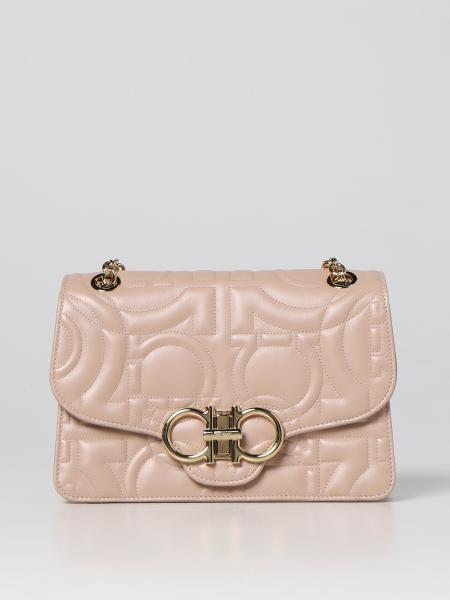FERRAGAMO: (154, 399, 296, 473), (247, 426, 247, 427)
